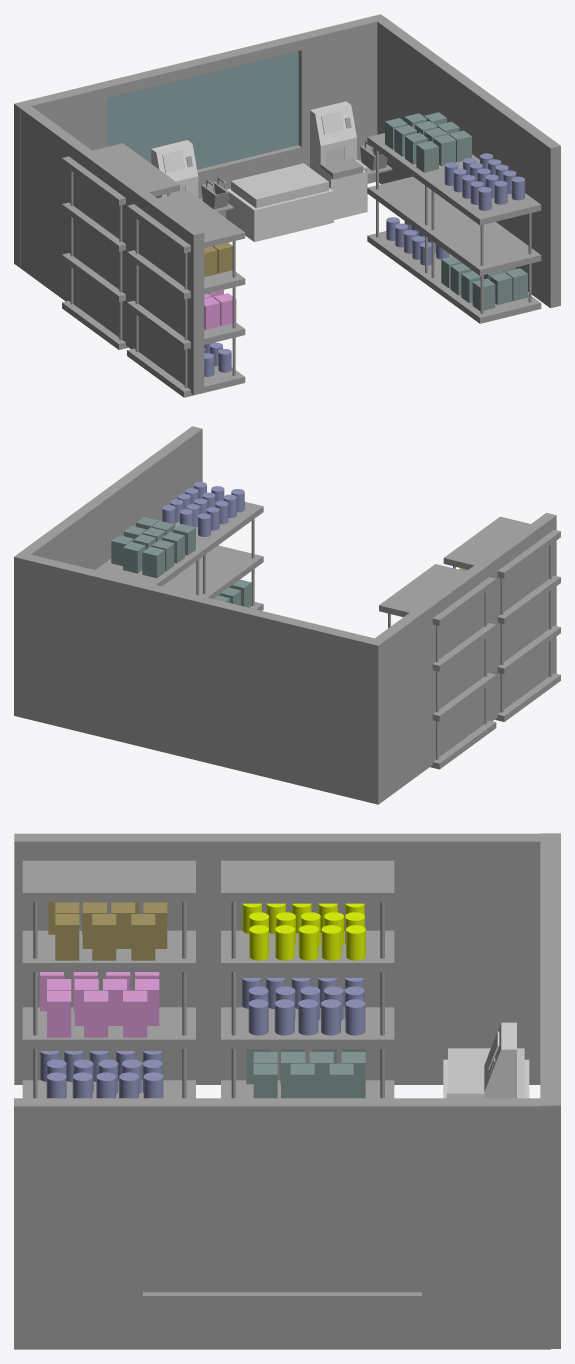
Rendered from store.fbx.
3 renders of one model, top to bottom at view 1: azimuth 30°, elevation 25°; view 2: azimuth 150°, elevation 25°; view 3: azimuth 270°, elevation 25°, orthographic. The views are drawn at different scales.
Parts seen in each view (by area): view 1: wall, wall_2, wall_3, shelf_mid_2 (×3), shelf_top (×2), shelf_bottom (×4), shelf_mid_1 (×3), screen (×2), check_out_machine_desk, machine_desk_top, shelf, machine (+5 smaller); view 2: wall, wall_2, wall_3, shelf_top (×2), shelf_mid_2 (×2), shelf_mid_1 (×3), shelf, shelf_bottom (×2), pCube4, pCube5; view 3: wall_3, wall_2, shelf_top (×2), shelf, wall, shelf_mid_1, shelf_mid_2, pCube12 (×3), pCube10 (×3), pCube9 (×3), pCube6 (×3), shelf_bottom (×2) (+11 smaller).
Part boxes in pixels (x1,y1,x2,y2): wall: (14, 14, 387, 268); wall_2: (21, 106, 204, 394); wall_3: (377, 17, 560, 308); shelf_mid_2 (×3): (127, 176, 541, 349); shelf_top (×2): (62, 143, 245, 253); shelf_bottom (×4): (62, 231, 541, 397); shelf_mid_1 (×3): (127, 133, 541, 299); screen (×2): (151, 101, 356, 198); check_out_machine_desk: (226, 187, 333, 241); machine_desk_top: (231, 163, 328, 208); shelf: (62, 170, 170, 340); machine: (310, 159, 367, 219); wall: (14, 552, 384, 804); wall_2: (375, 513, 556, 799); wall_3: (18, 426, 202, 569); shelf_top (×2): (379, 516, 560, 625); shelf_mid_2 (×2): (163, 545, 560, 674); shelf_mid_1 (×3): (95, 502, 560, 624); shelf: (388, 591, 496, 759); shelf_bottom (×2): (430, 673, 560, 769); pCube4: (142, 546, 164, 578); pCube5: (123, 542, 145, 573); wall_3: (14, 1098, 550, 1349); wall_2: (14, 833, 540, 1084); shelf_top (×2): (22, 860, 394, 901); shelf: (221, 902, 394, 1098); wall: (540, 833, 560, 1348); shelf_mid_1: (22, 930, 195, 971); shelf_mid_2: (22, 1007, 195, 1048); pCube12 (×3): (123, 914, 353, 1098); pCube10 (×3): (84, 914, 314, 1098); pCube9 (×3): (47, 914, 277, 1098); pCube6 (×3): (103, 902, 333, 1098); shelf_bottom (×2): (22, 1080, 394, 1098).
Bounding box in the file's own units: 6.12 × 2.55 × 5.09.
